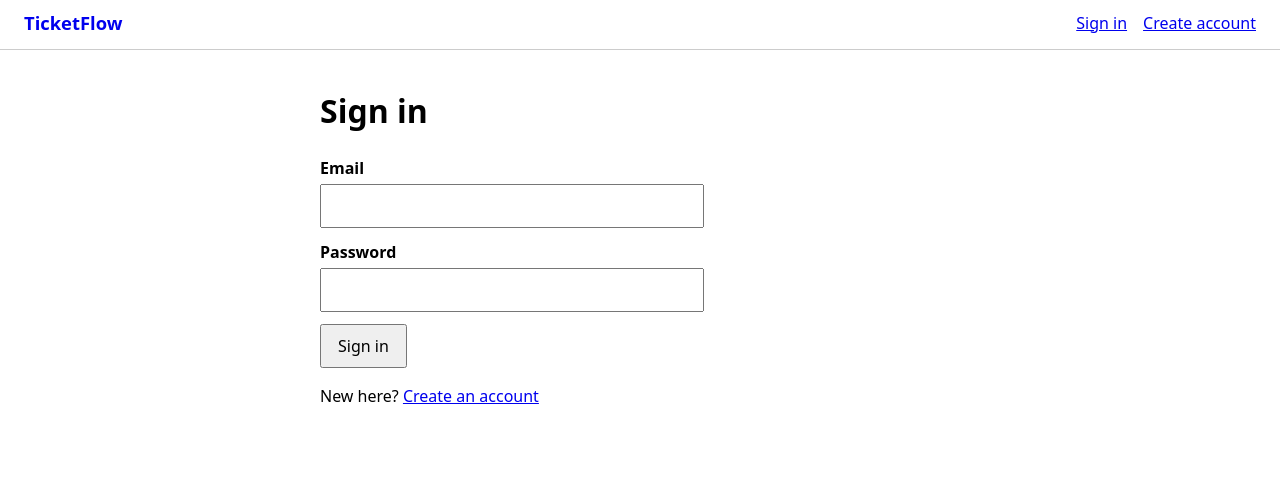
Test: the sign in page › says plainly when the email or password is not right, without a reference
The width and height of the screenshot is (1280, 489).
Expected: the heading "Sign in" is shown, [320,89,428,132]
Type "ada@example.com" into the field labelled "Email" at (512, 206), box [320,184,704,228]
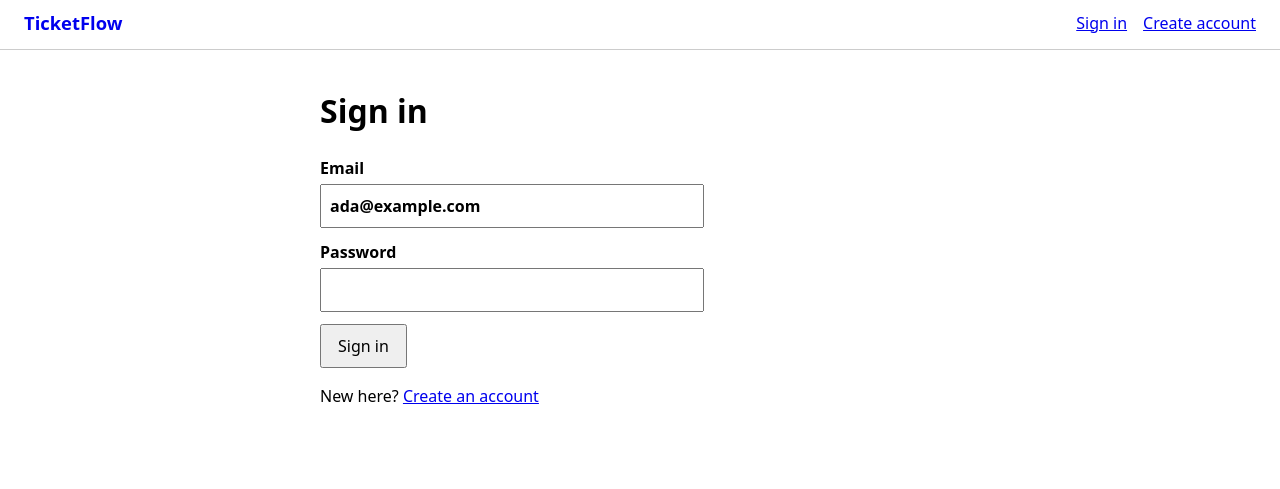
Type "a long password" into the password field labelled "Password" at (512, 290), box [320,268,704,312]
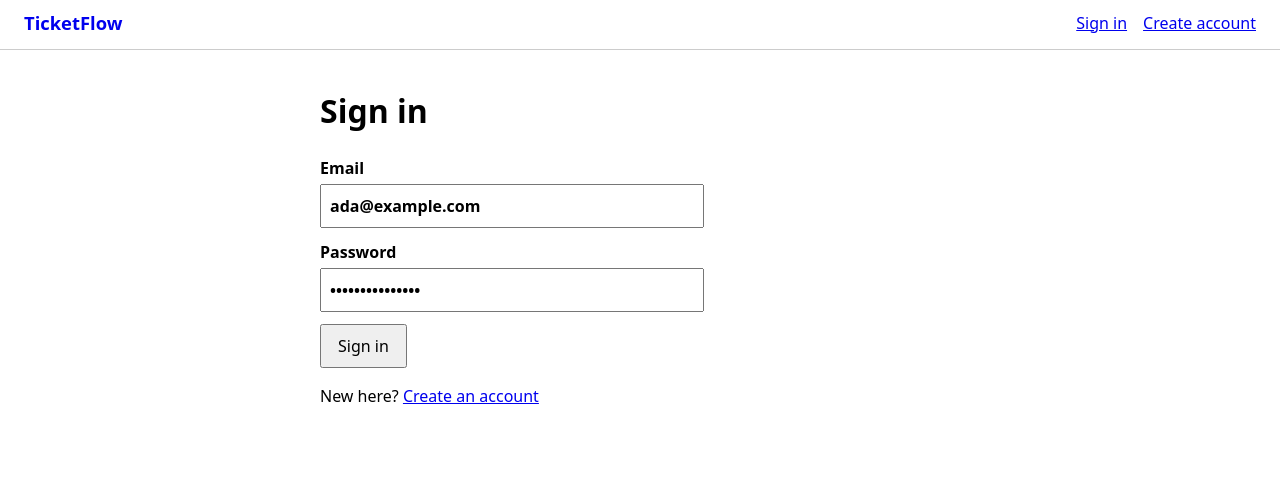
Click the button "Sign in" at (363, 346), box [320,324,407,368]
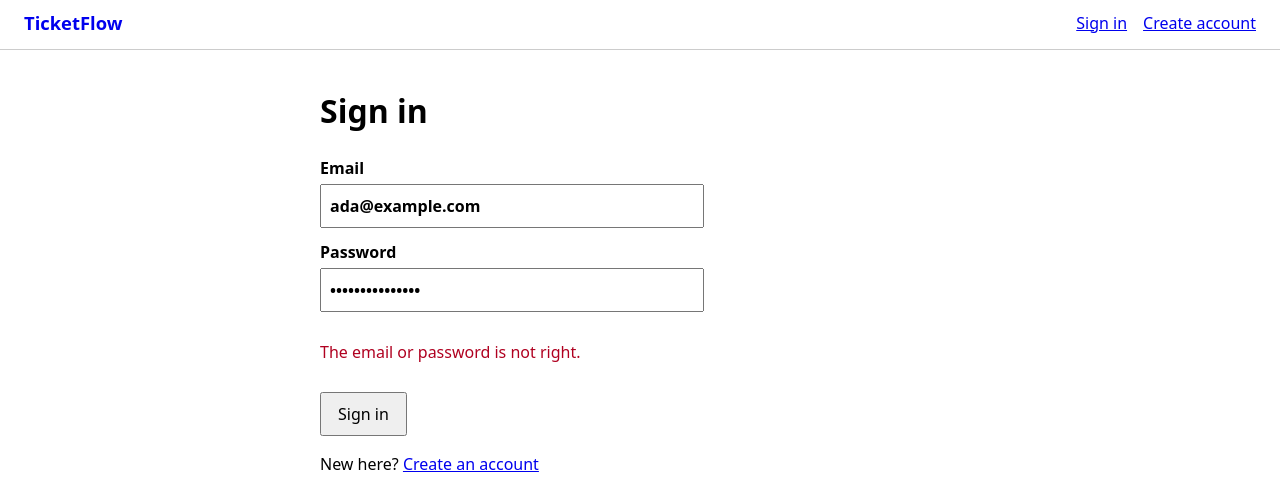
Expected: the heading "Sign in" is shown, [320,89,428,132]
Result: the message reads "The email or password is not right." at [320,342,580,364]
